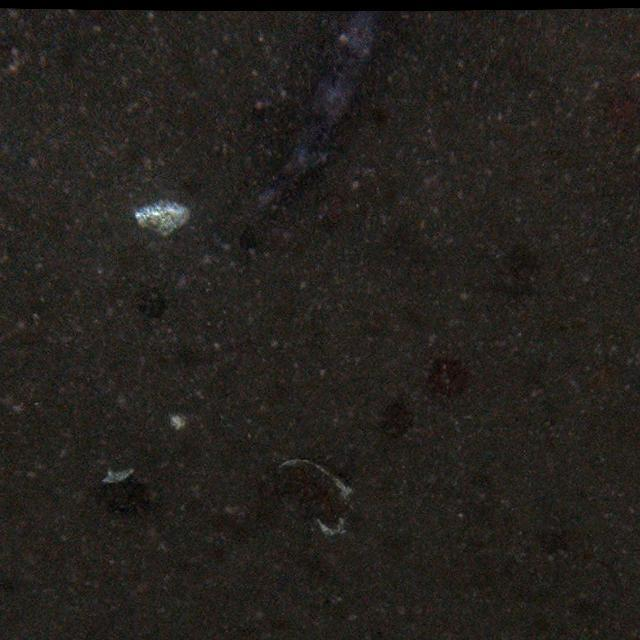roundfish: (240, 4, 388, 229)
